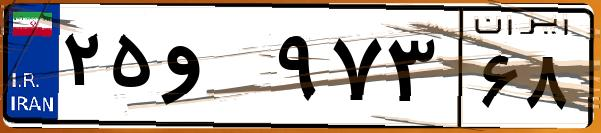2: (57, 26, 110, 100)
3: (385, 28, 445, 110)
5: (110, 28, 158, 98)
6: (475, 38, 525, 113)
7: (330, 28, 385, 110)
8: (525, 38, 570, 115)
9: (270, 28, 330, 110)
و: (158, 20, 270, 120)
